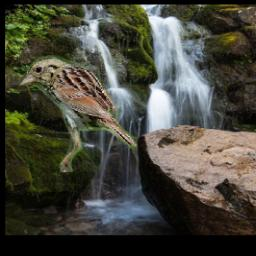Sparrow: (19, 55, 137, 172)
